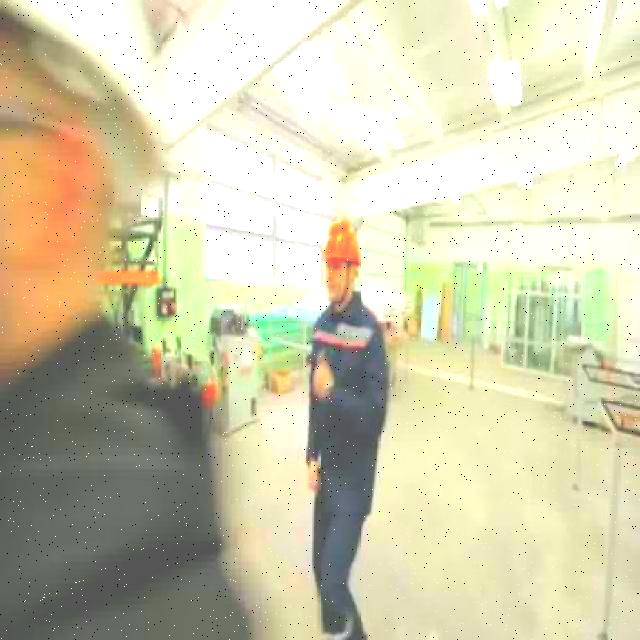Helmet: (324, 220, 362, 265)
Mask: (303, 287, 392, 638)
